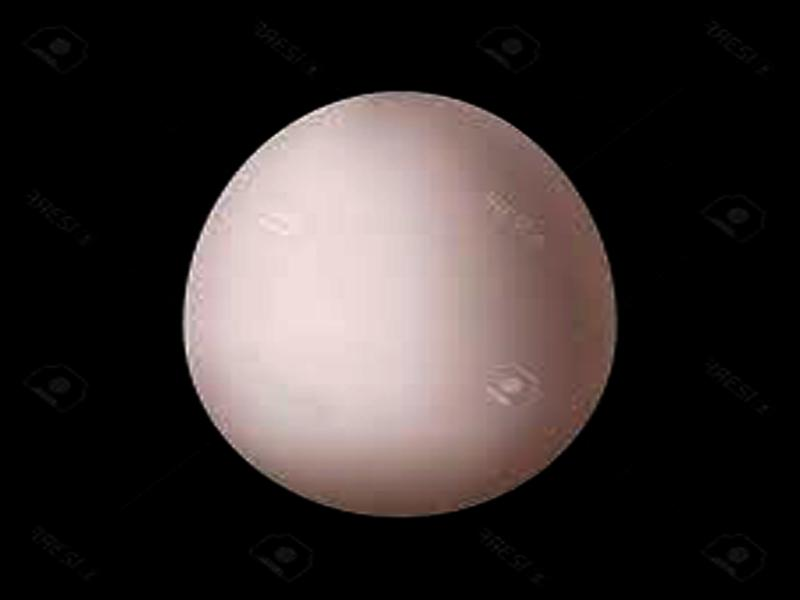Eggs: (184, 93, 611, 515)
